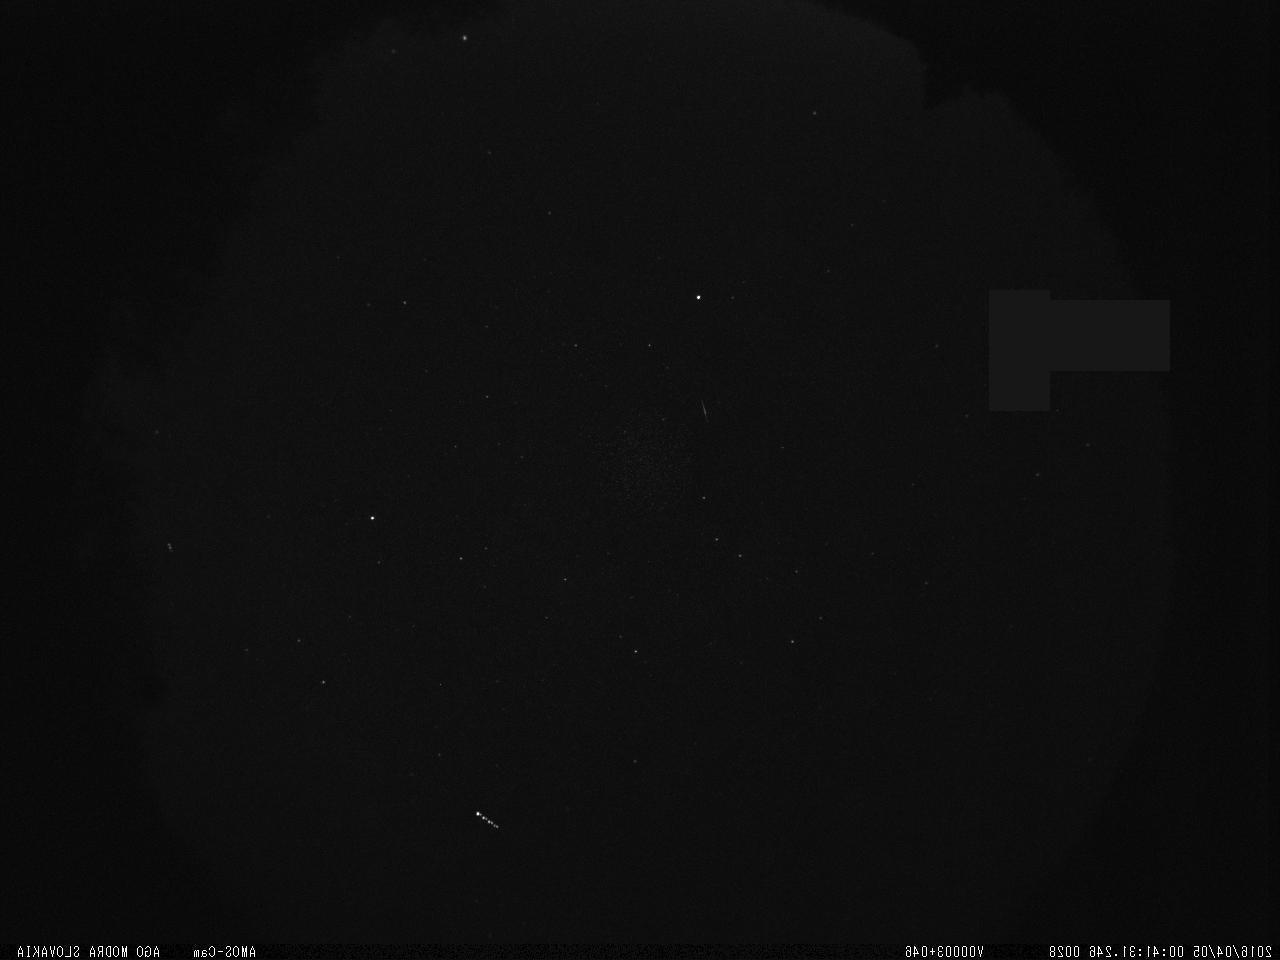meteor: (687, 391, 724, 432)
